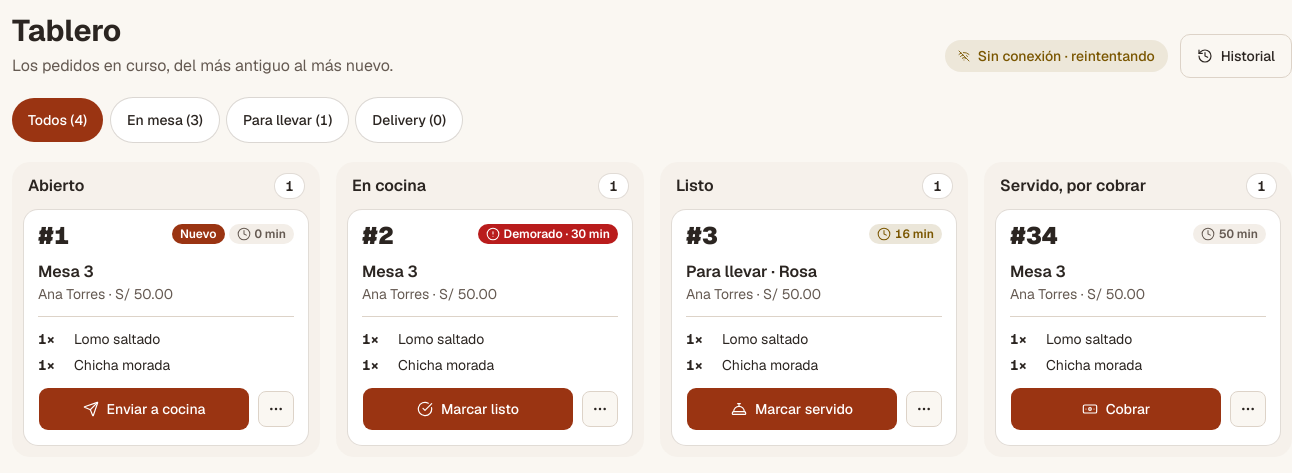
Test: BoardView › filtra por tipo con la cantidad de cada uno
Click the button "Para llevar (1)" at (288, 120), box [227, 98, 348, 142]
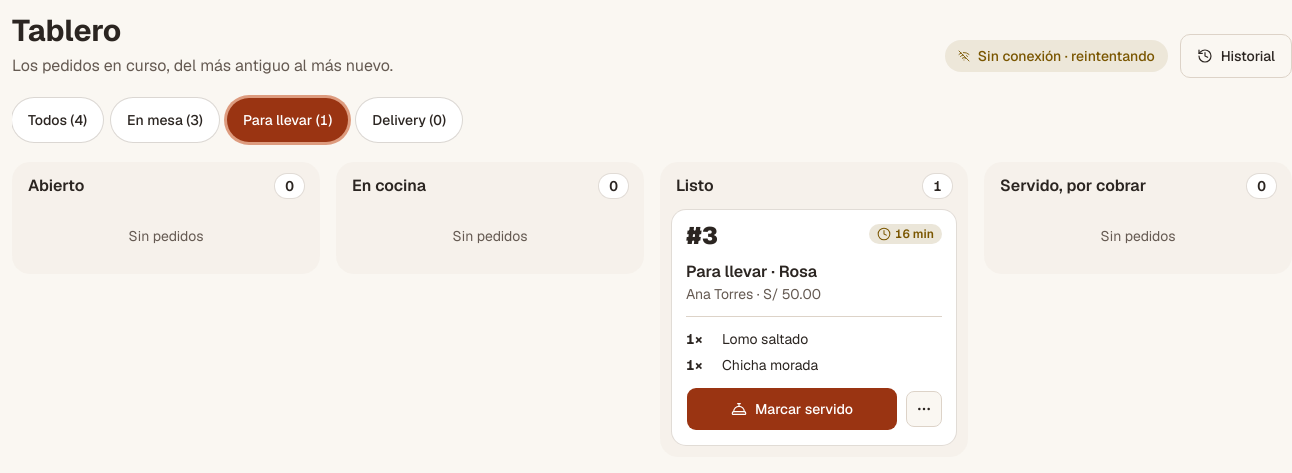
Expected: the element named "Listo: 1" is shown, [660, 162, 968, 456]
Result: the element named "Abierto: 0" shows "Sin pedidos" at [129, 226, 203, 244]
